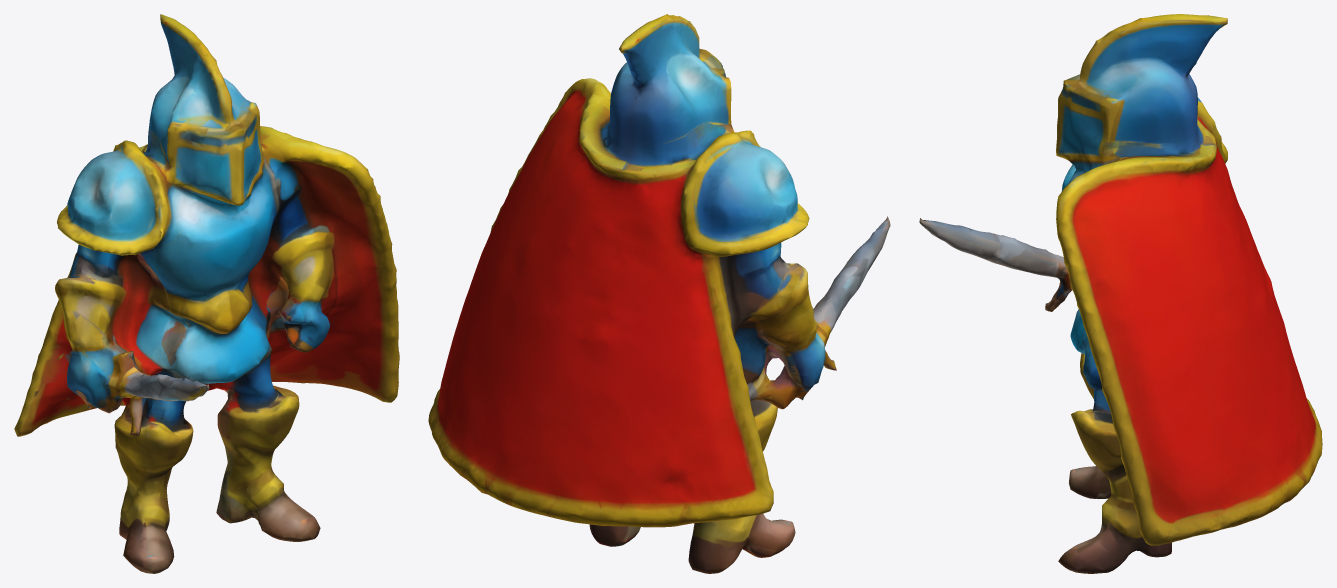
The model's file is Cartoony_Knight_full_0711092140_refine.fbx.
3 renders of one model, left to right at view 1: azimuth 30°, elevation 25°; view 2: azimuth 150°, elevation 25°; view 3: azimuth 270°, elevation 25°, orthographic. The views are drawn at different scales.
Visible parts, largest first — view 1: Mesh_0; view 2: Mesh_0; view 3: Mesh_0.
Boxes of the visible parts, x1=… form: Mesh_0: x1=14, y1=14, x2=399, y2=573; Mesh_0: x1=428, y1=14, x2=890, y2=573; Mesh_0: x1=919, y1=14, x2=1322, y2=573.
Size of the model in its own units: 87.05 by 120 by 84.51.
Materials: 1 (1 with a texture image).
